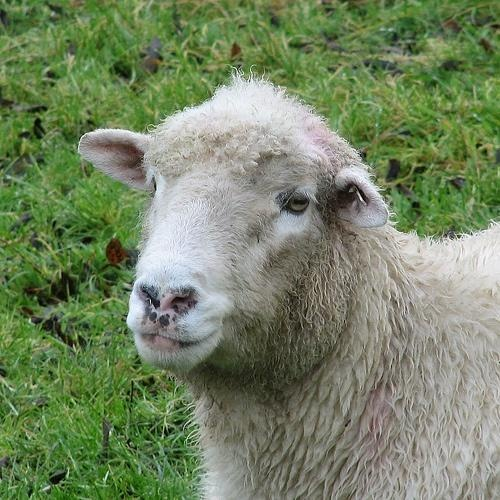sheep: (72, 72, 500, 500)
